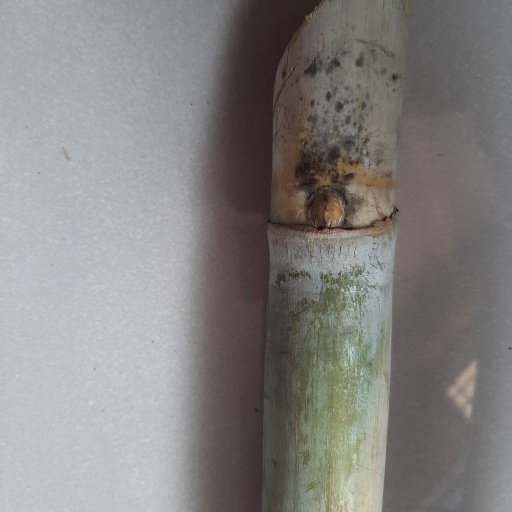Bud: (304, 186, 349, 228)
